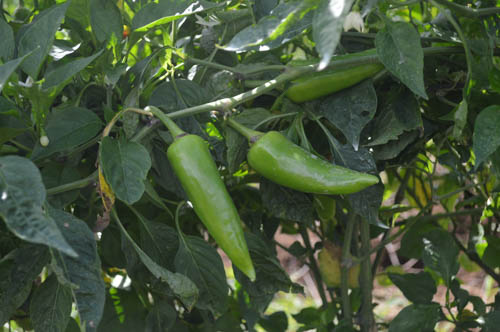ChiliPepper: (170, 135, 262, 280), (250, 129, 377, 195), (280, 49, 401, 96)
